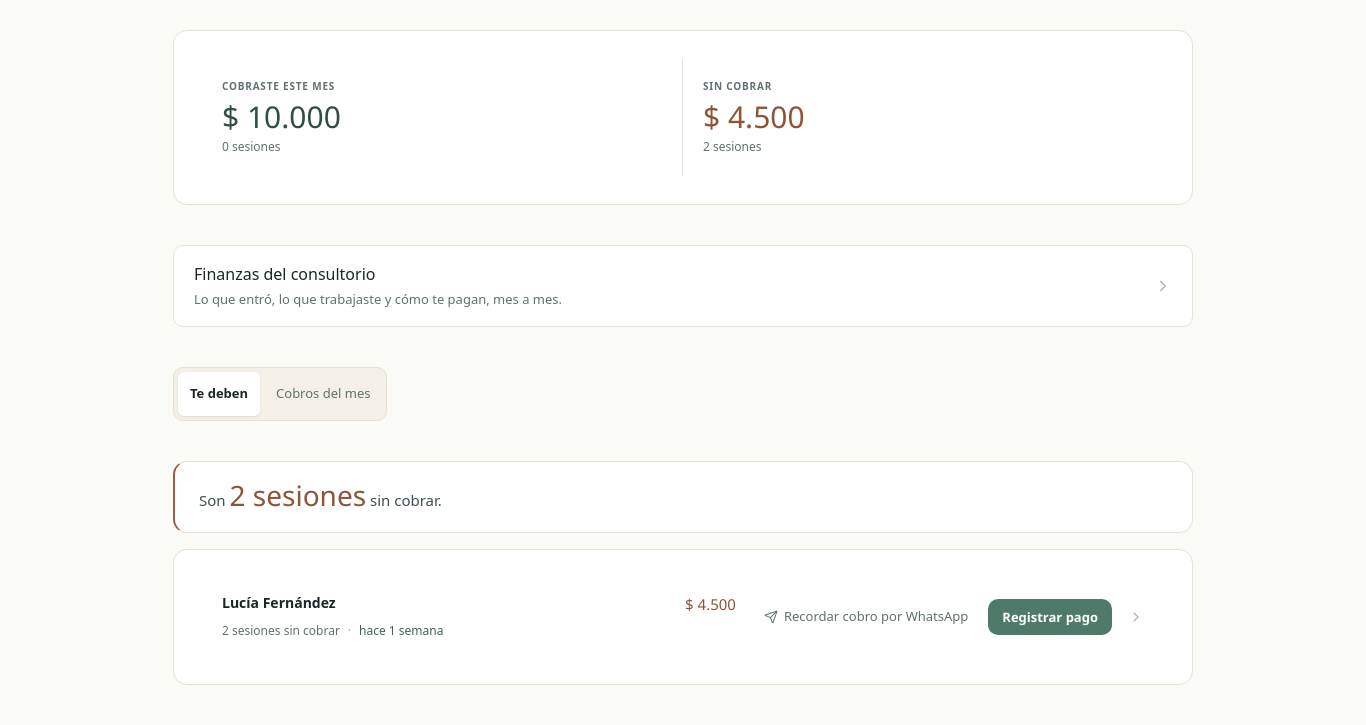
Test: Te deben: registrar pago › si la primera ya falla, dice el error de la API y no cobra nada
(page scrolled)
Click the button "Registrar pago".
click(1050, 617)  # box [988,599,1112,635]
(page scrolled)
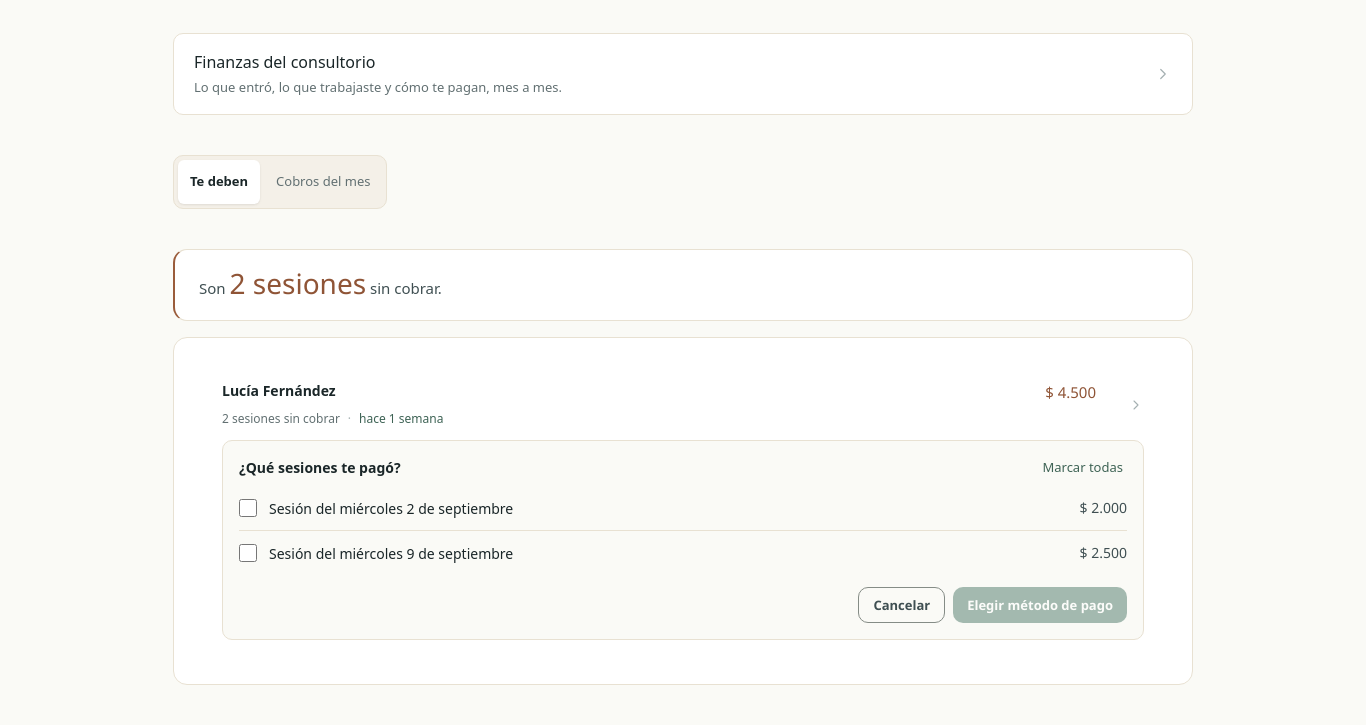
Click the checkbox labelled "Sesión del miércoles 2 de septiembre $ 2.000".
click(248, 508)  # box [239,499,257,517]
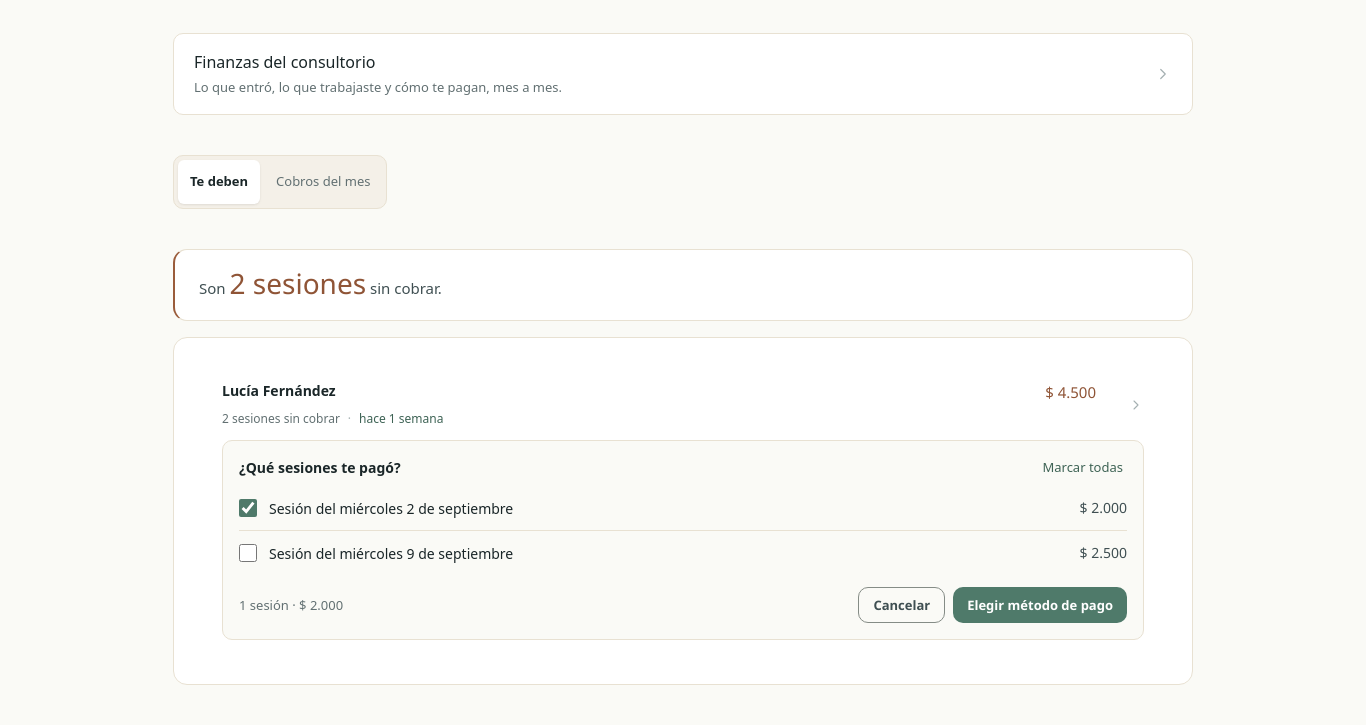
Click the button "Elegir método de pago".
click(1040, 605)  # box [953,587,1127,623]
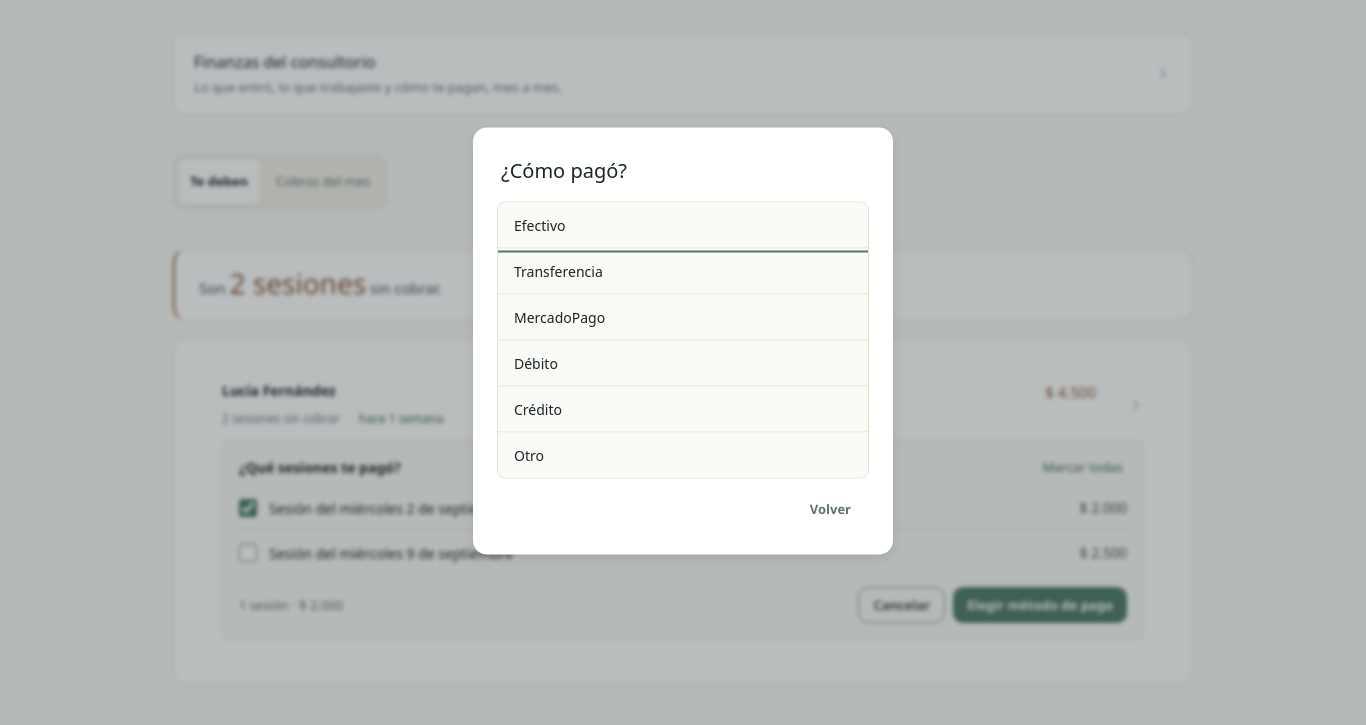
Click the button "Efectivo".
click(540, 225)  # box [498,202,868,248]
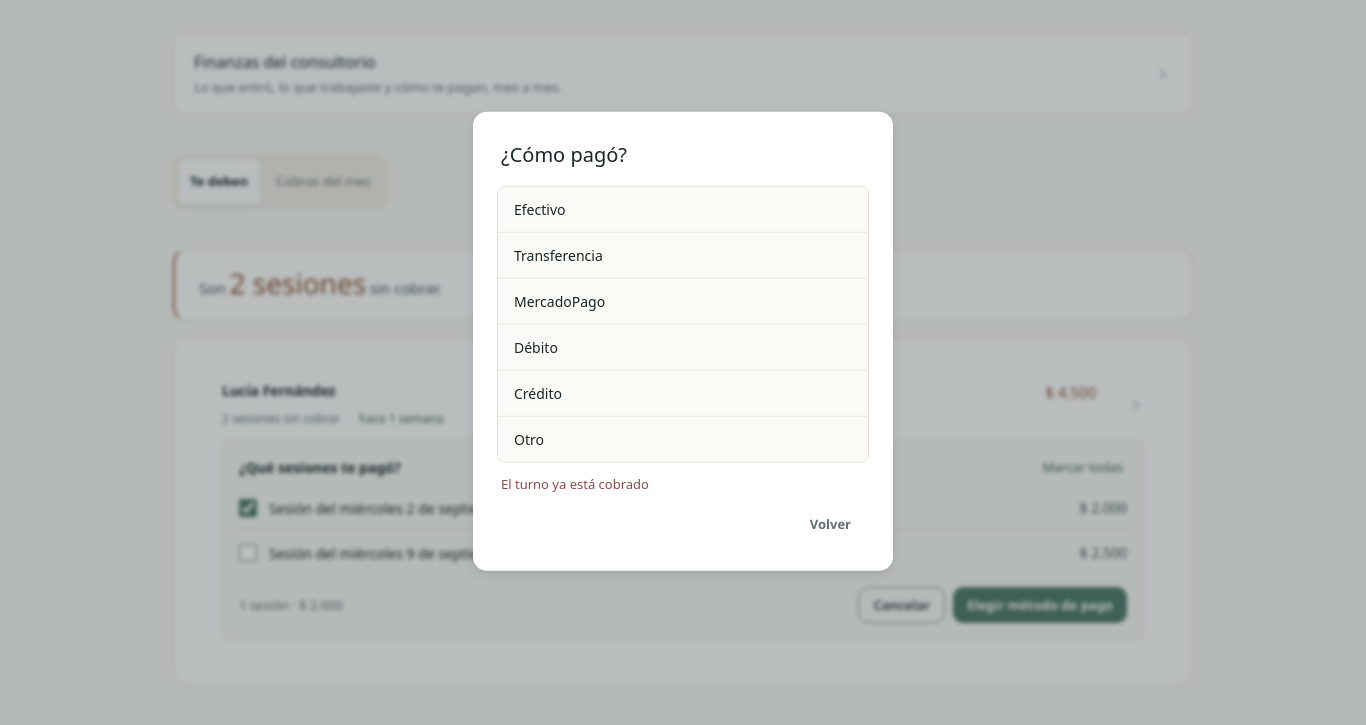
Check: the message reads "El turno ya está cobrado", box [501,475,649,493]
